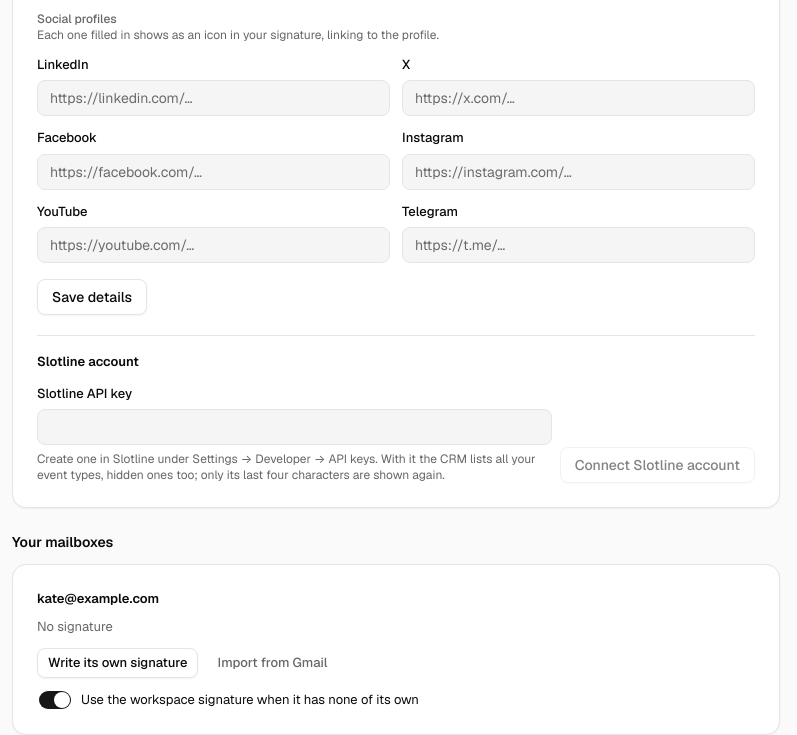
Test: #193 Settings → Signatures › imports the Gmail signature into the editor, to save or not
(page scrolled)
Click the button "Import from Gmail" at (272, 663), box [206,648,338,678]
(page scrolled)
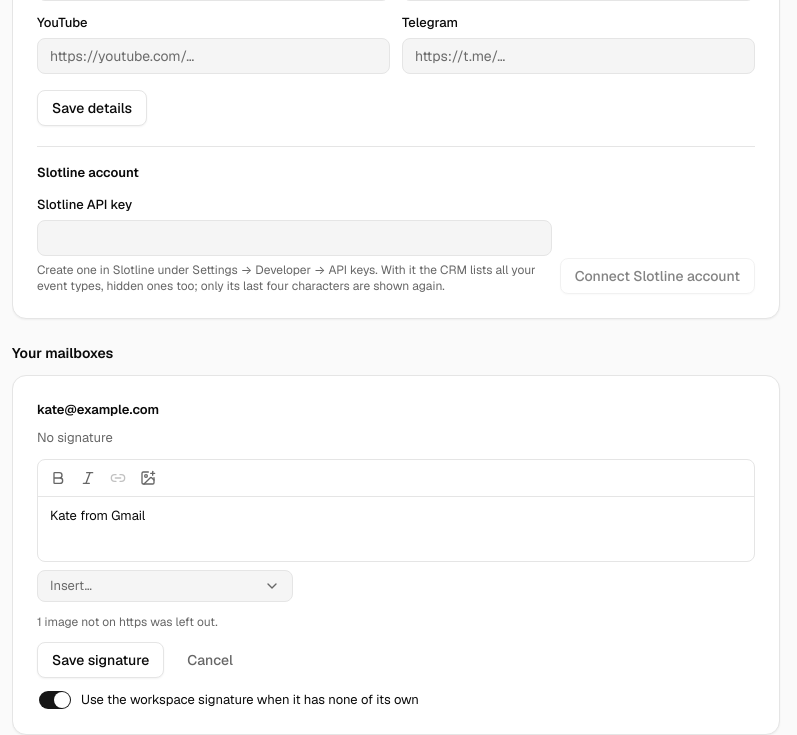
Expected: the field named "Signature for kate@example.com" reads "Kate from Gmail", [50,507,145,524]
Expected: the text "1 image not on https was left out." is shown, [37,614,218,630]
